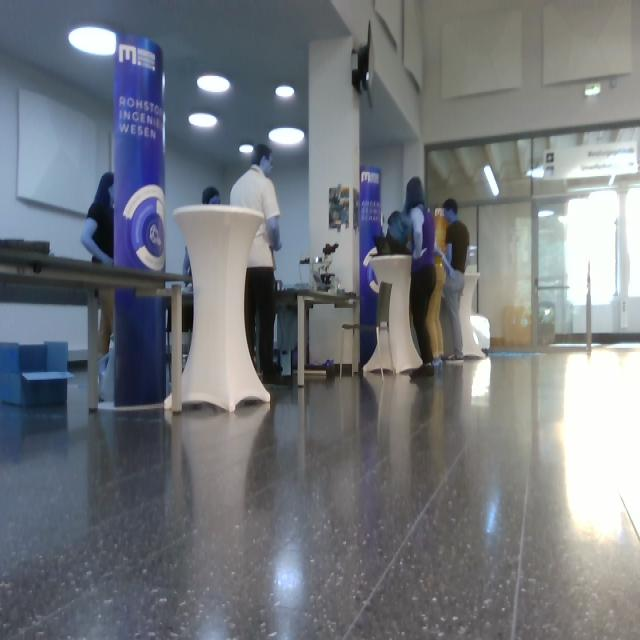door: (477, 200, 533, 348)
light bulb: (68, 25, 117, 57), (269, 127, 305, 147), (197, 74, 231, 93), (484, 165, 500, 197), (188, 112, 218, 129), (526, 164, 545, 178), (275, 85, 295, 98), (584, 84, 601, 96), (239, 143, 254, 155)
person: (230, 144, 283, 384), (402, 177, 437, 377), (81, 172, 115, 364), (440, 199, 471, 363)
pillar: (172, 204, 271, 413), (112, 33, 167, 406)
tiled floor: (1, 343, 639, 639)
